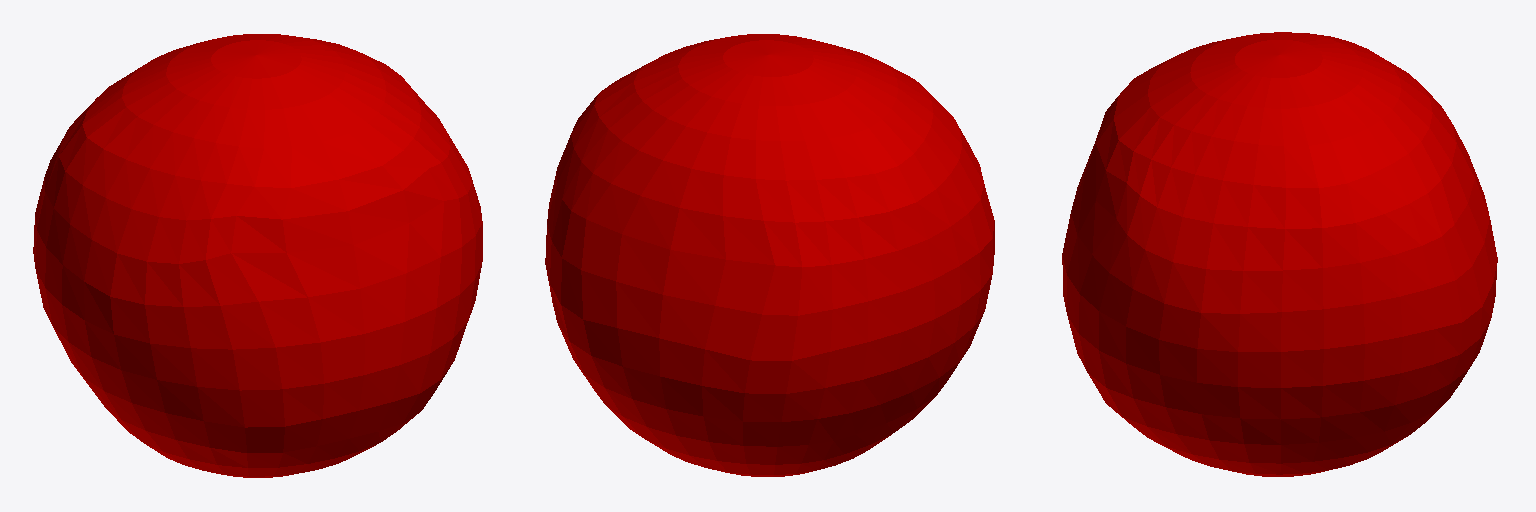
Rendered from redball.obj.
The picture shows the model from 3 angles: view 1: azimuth 30°, elevation 25°; view 2: azimuth 150°, elevation 25°; view 3: azimuth 270°, elevation 25°; orthographic projection.
Visible parts, largest first — view 1: Sphere; view 2: Sphere; view 3: Sphere.
Boxes of the visible parts, x1=… form: Sphere: x1=33, y1=34, x2=482, y2=477; Sphere: x1=545, y1=34, x2=994, y2=476; Sphere: x1=1062, y1=32, x2=1497, y2=476.
Bounding box in the file's own units: 1.51 × 1.5 × 1.47.